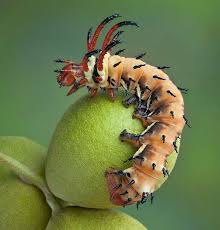Caterpillar: (53, 12, 188, 209)
